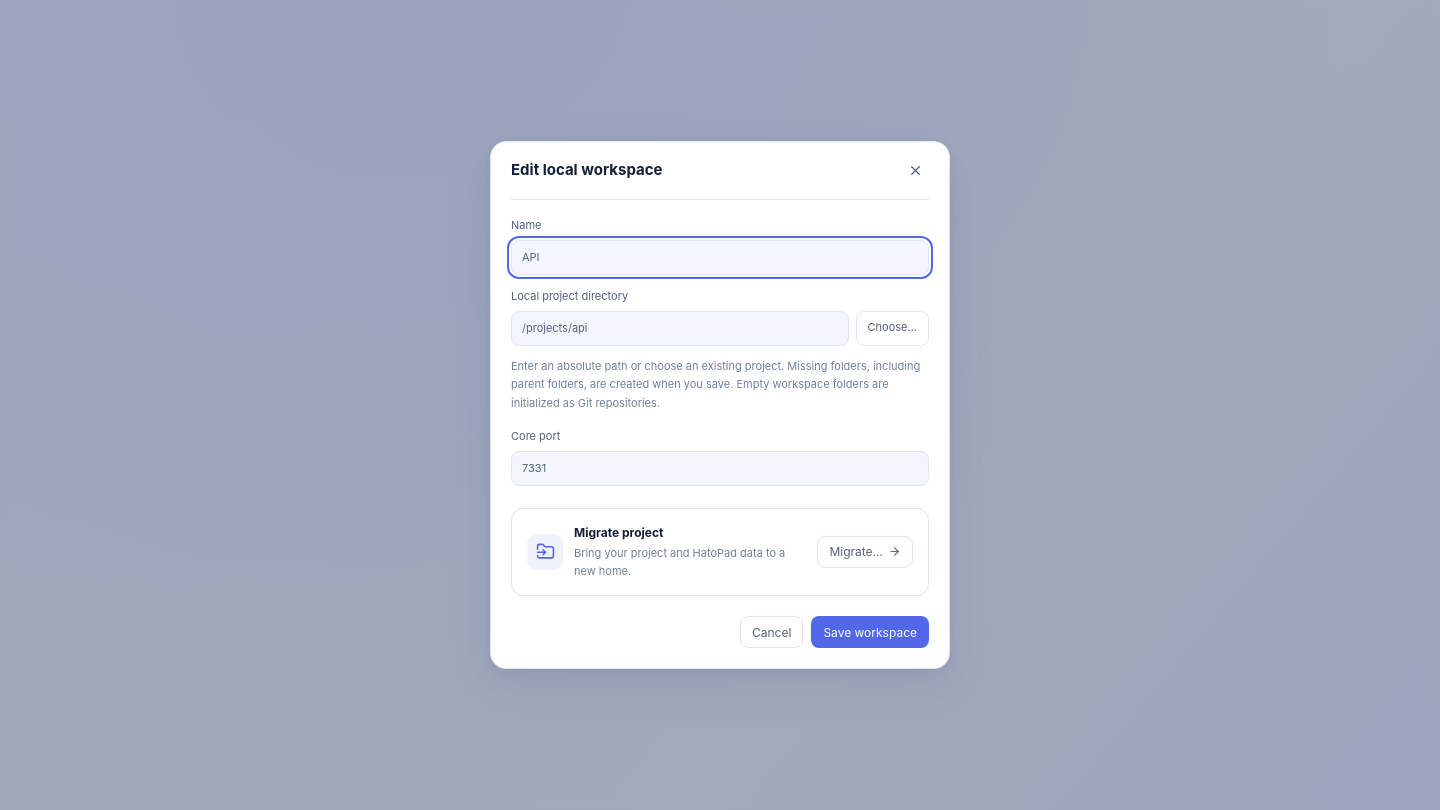
Scenario: workspace migration settings › uses the chosen parent directory while preserving the project folder name
Click the button "Migrate…": (865, 552) [818,536,913,568]
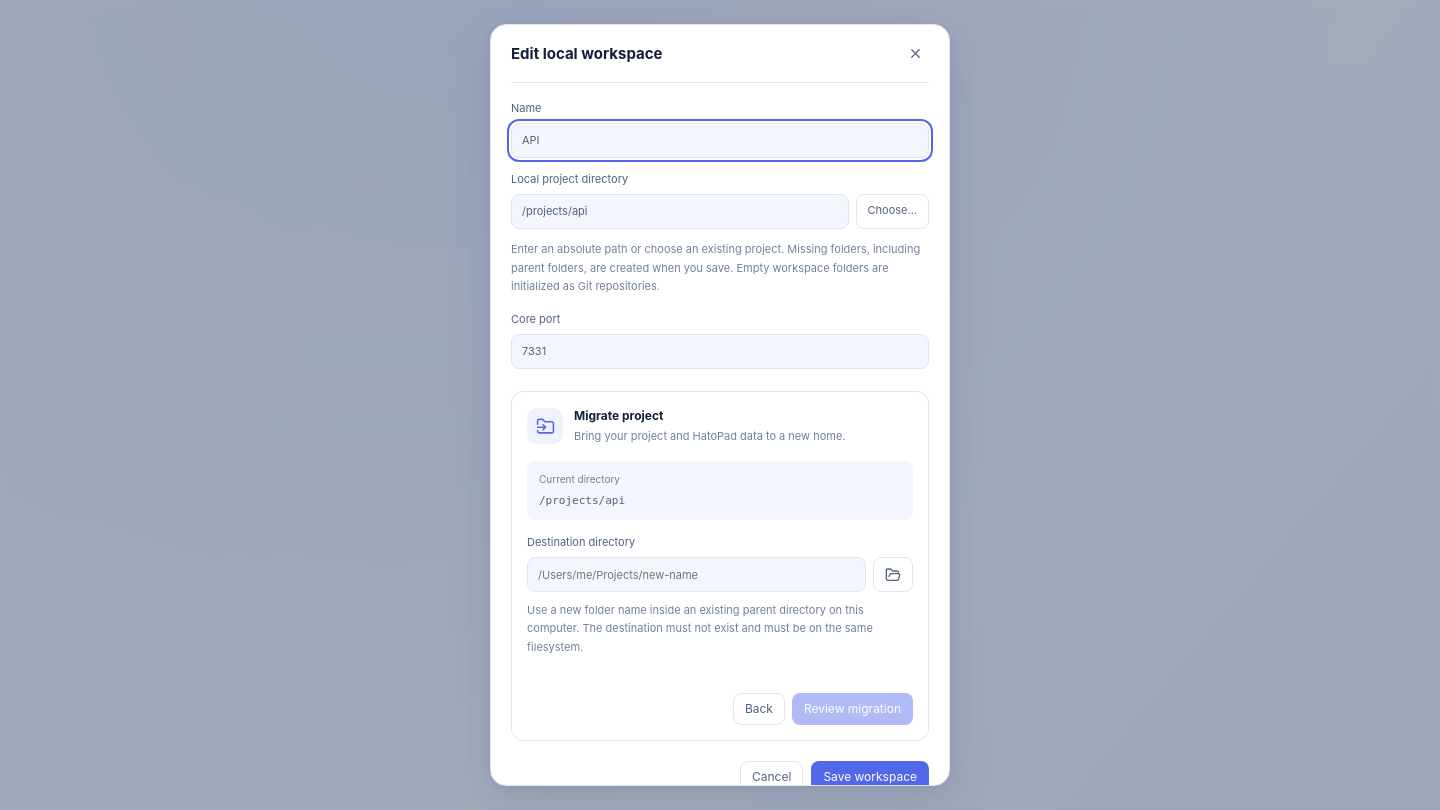
Click the button named "Choose destination parent folder": (893, 575) [873,557,913,592]
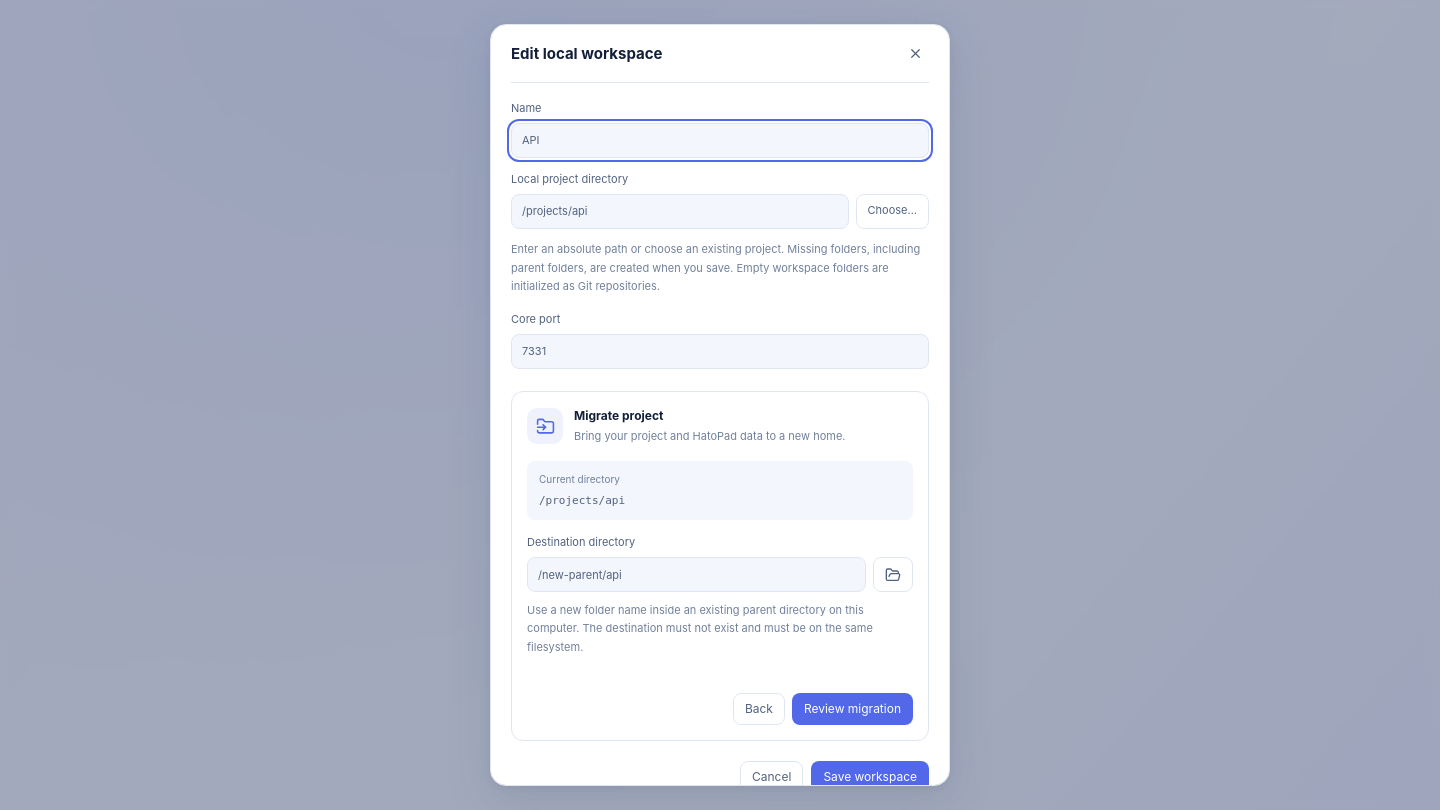
Expected: the field labelled "Destination directory" holds "/new-parent/api", [527,557,866,592]
